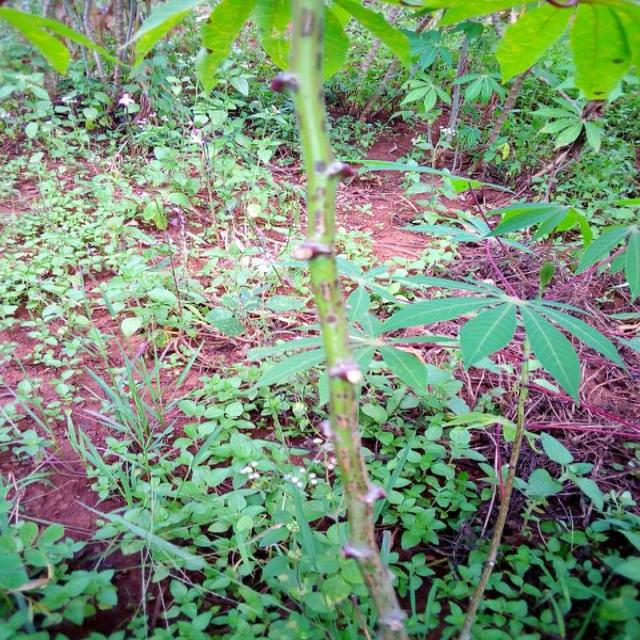cassava leaf: (570, 0, 640, 102), (495, 0, 574, 84), (522, 300, 582, 406), (460, 300, 518, 370)
